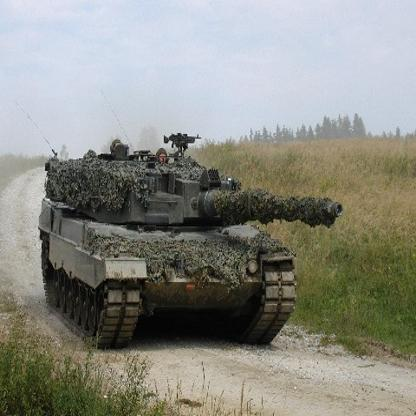Tank: (37, 134, 348, 365)
